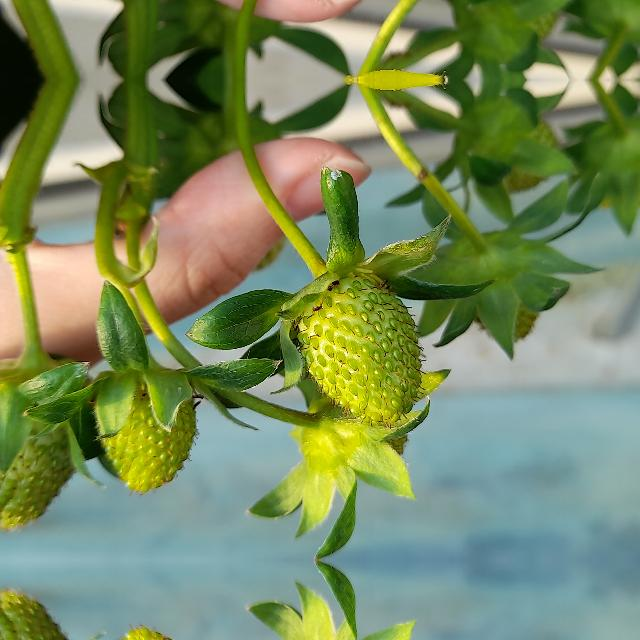Health_25: (296, 275, 426, 427), (0, 367, 82, 530), (96, 371, 198, 497), (0, 589, 82, 640)
